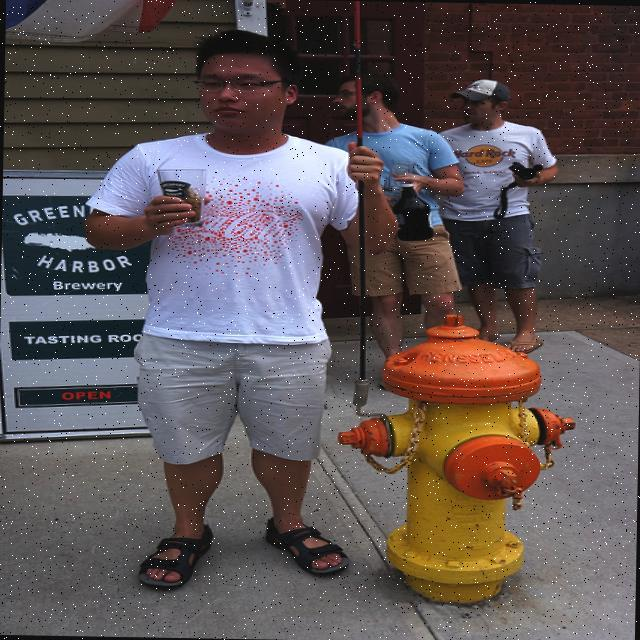fire_hydrant: (332, 310, 578, 608)
